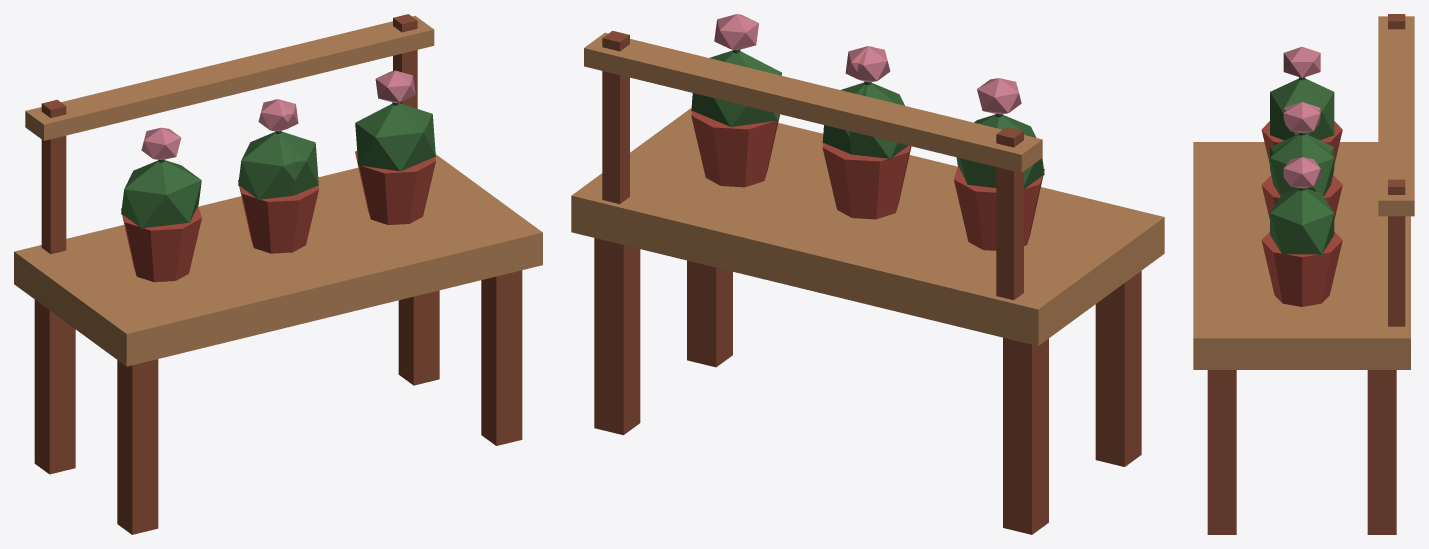
The model's file is Backyard_PottingBenchTunnel_Showcase.glb.
3 views of the same model, side by side, from view 1: azimuth 30°, elevation 25°; view 2: azimuth 150°, elevation 25°; view 3: azimuth 270°, elevation 25° (orthographic). The views are drawn at different scales.
Visible parts, largest first — view 1: Backyard_PottingBenchTunnel_Showcase; view 2: Backyard_PottingBenchTunnel_Showcase; view 3: Backyard_PottingBenchTunnel_Showcase.
Boxes of the visible parts, left/top/right/bottom form: Backyard_PottingBenchTunnel_Showcase: left=14, top=14, right=542, bottom=534; Backyard_PottingBenchTunnel_Showcase: left=571, top=14, right=1164, bottom=534; Backyard_PottingBenchTunnel_Showcase: left=1193, top=14, right=1414, bottom=534.
Bounding box in the file's own units: 3.2 × 2.6 × 1.52.
